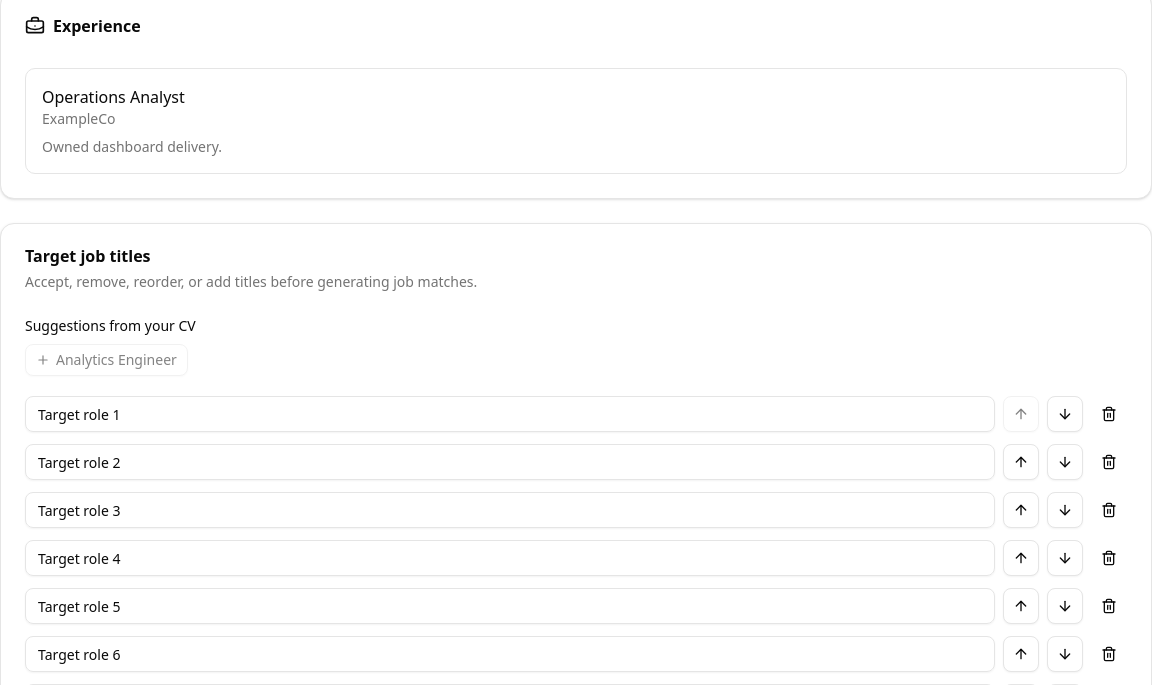
Test: IndividualProfilePage › does not append a suggested title after reaching the 10-title limit
(page scrolled)
Click the button "Analytics Engineer" at (106, 360), box [25,344,188,376]
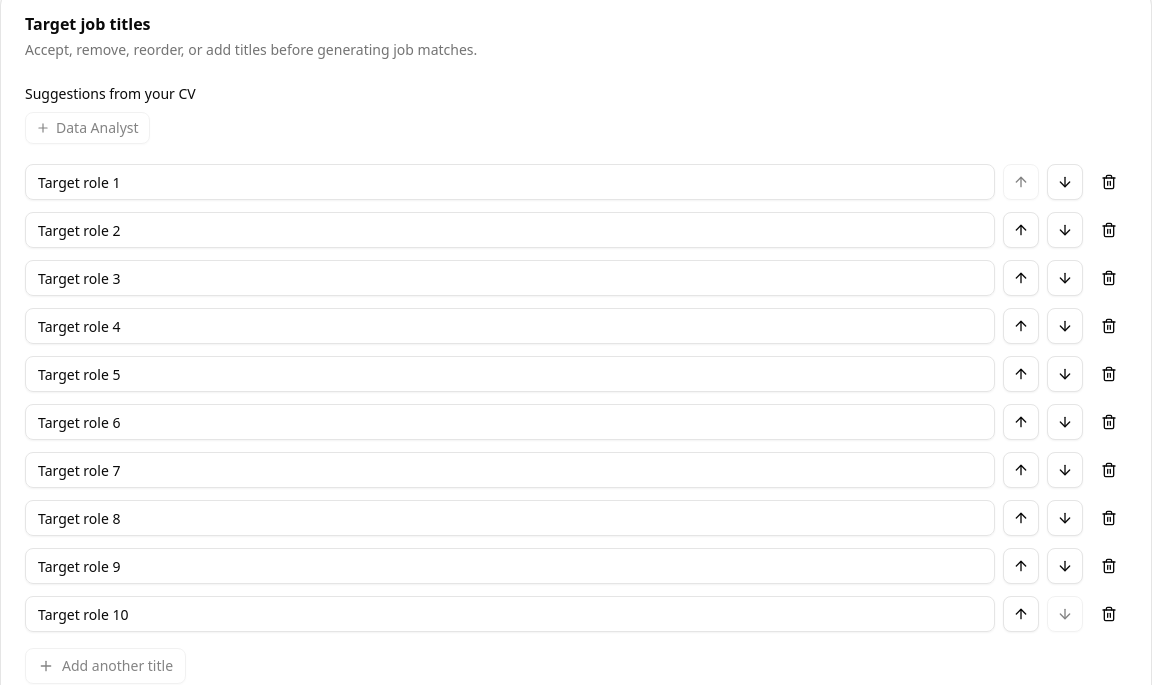
expect the number of fields is 10: met
